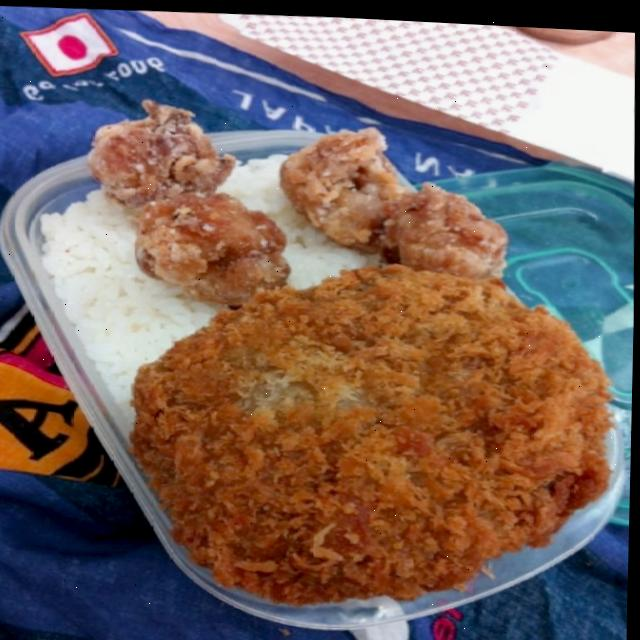炸货点心: (111, 243, 630, 637)
